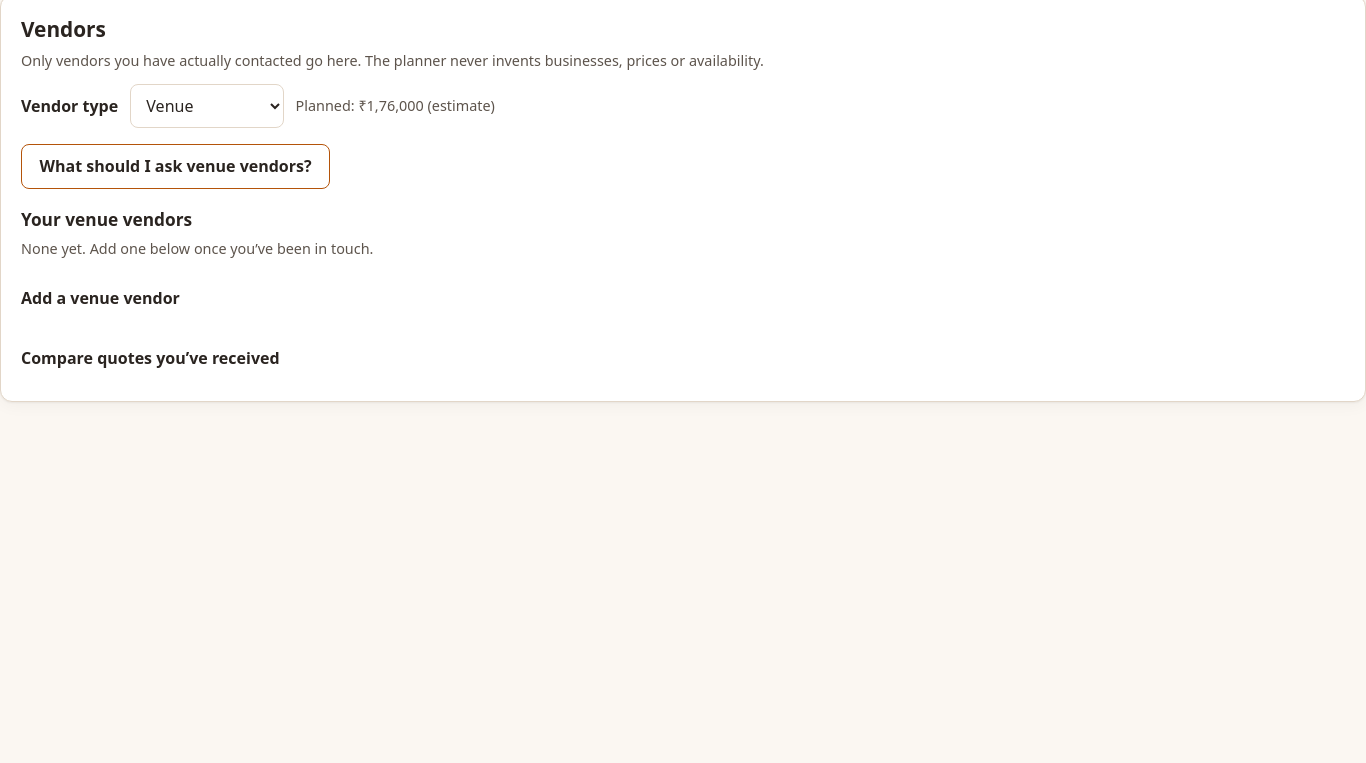
VendorPanel › comparing quotes › takes up to four quotes
Select "Catering" in the dropdown labelled "Vendor type" at (207, 106), box [130,84,284,128]
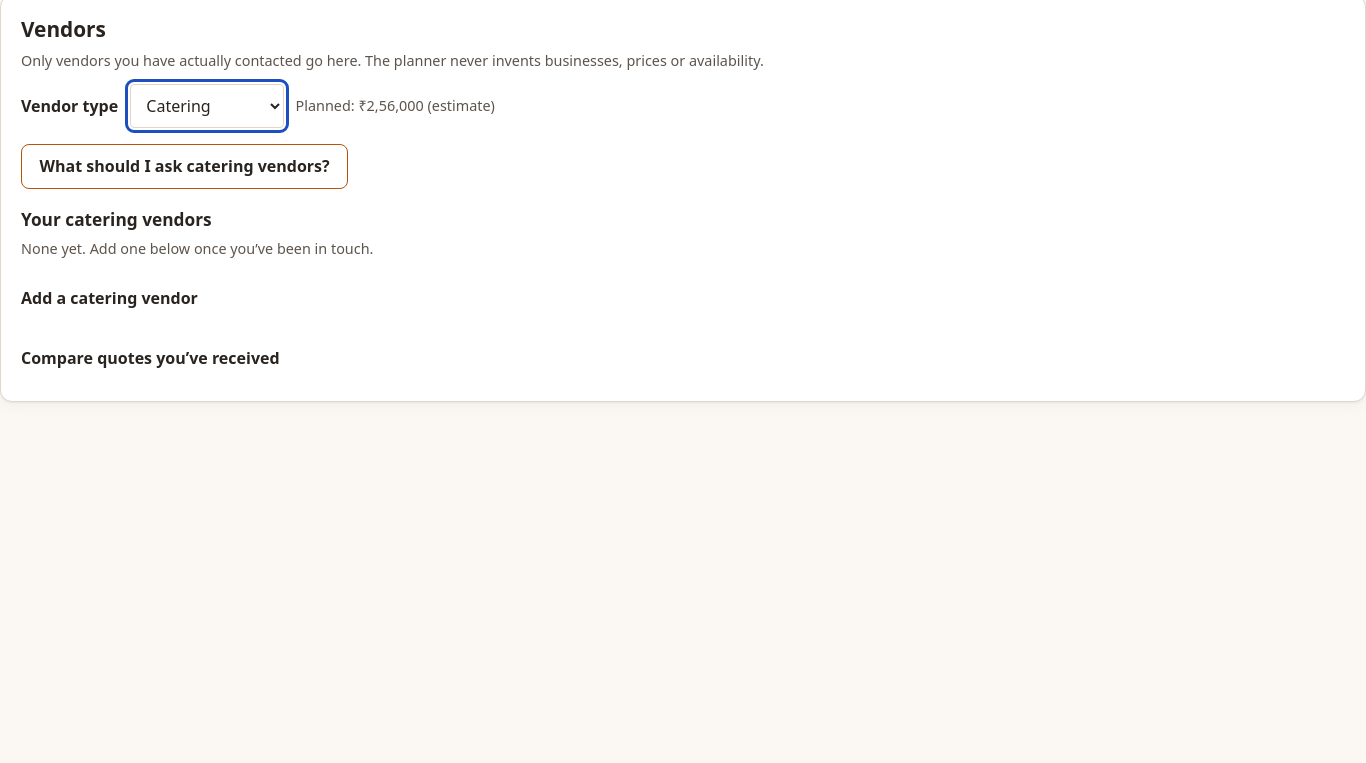
Click the heading "Compare quotes you’ve received".
click(150, 358)  # box [21,347,280,369]
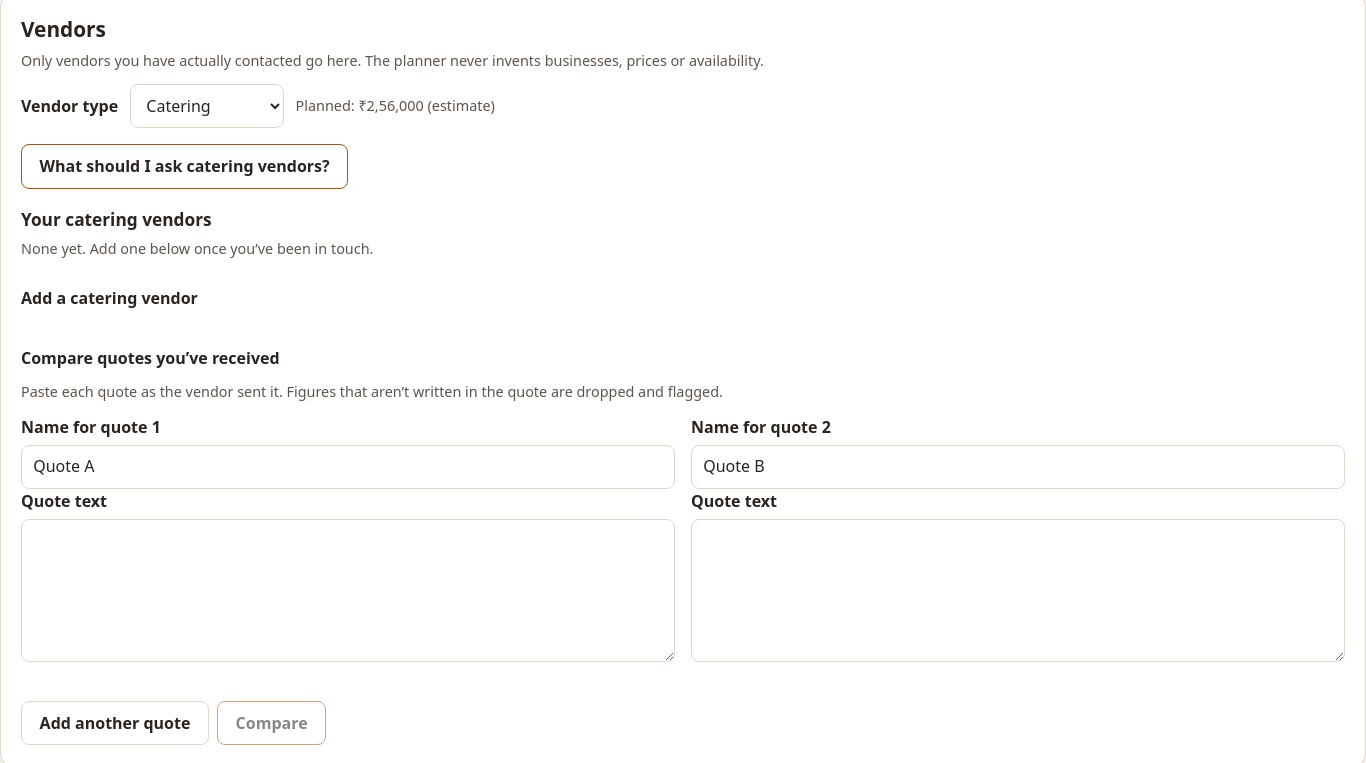
Click the button "Add another quote".
click(115, 723)  # box [21,701,209,745]
(page scrolled)
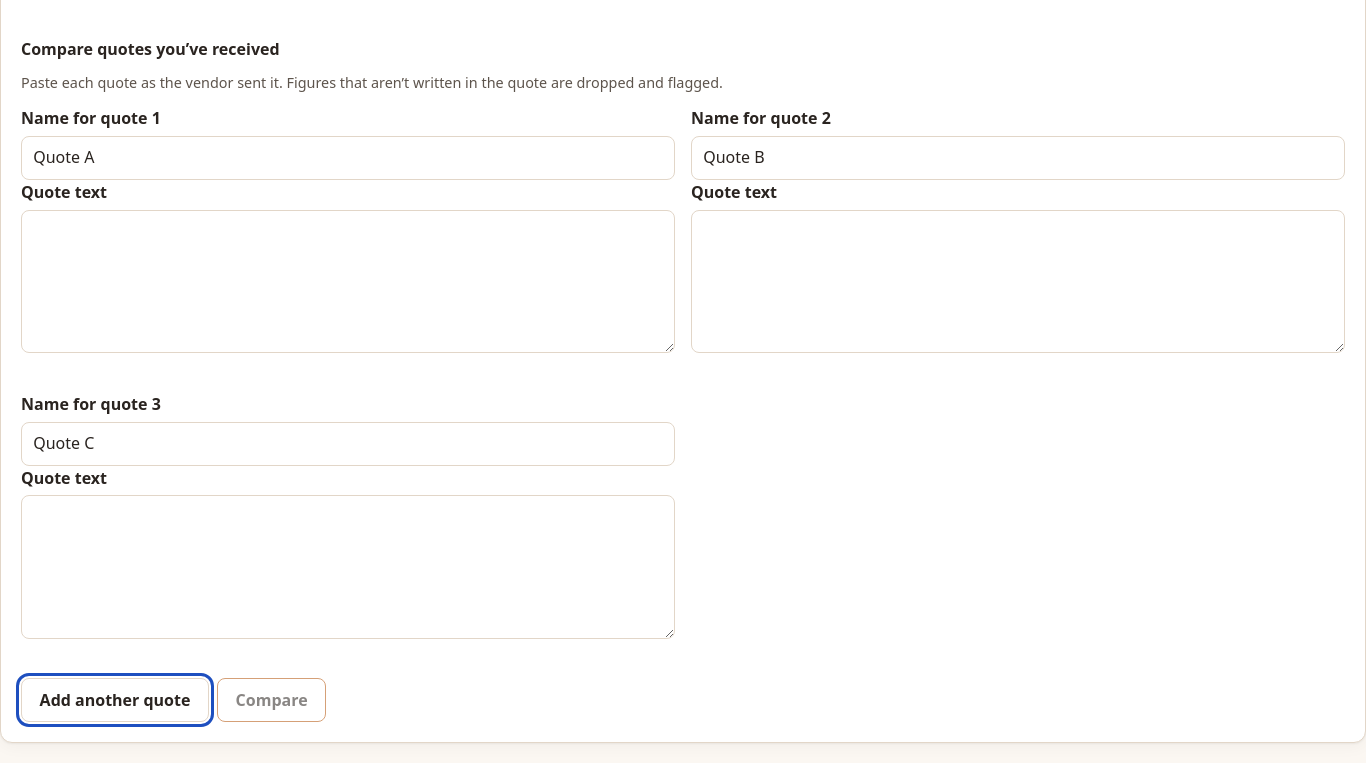
Click the button "Add another quote".
click(115, 700)  # box [21,678,209,722]
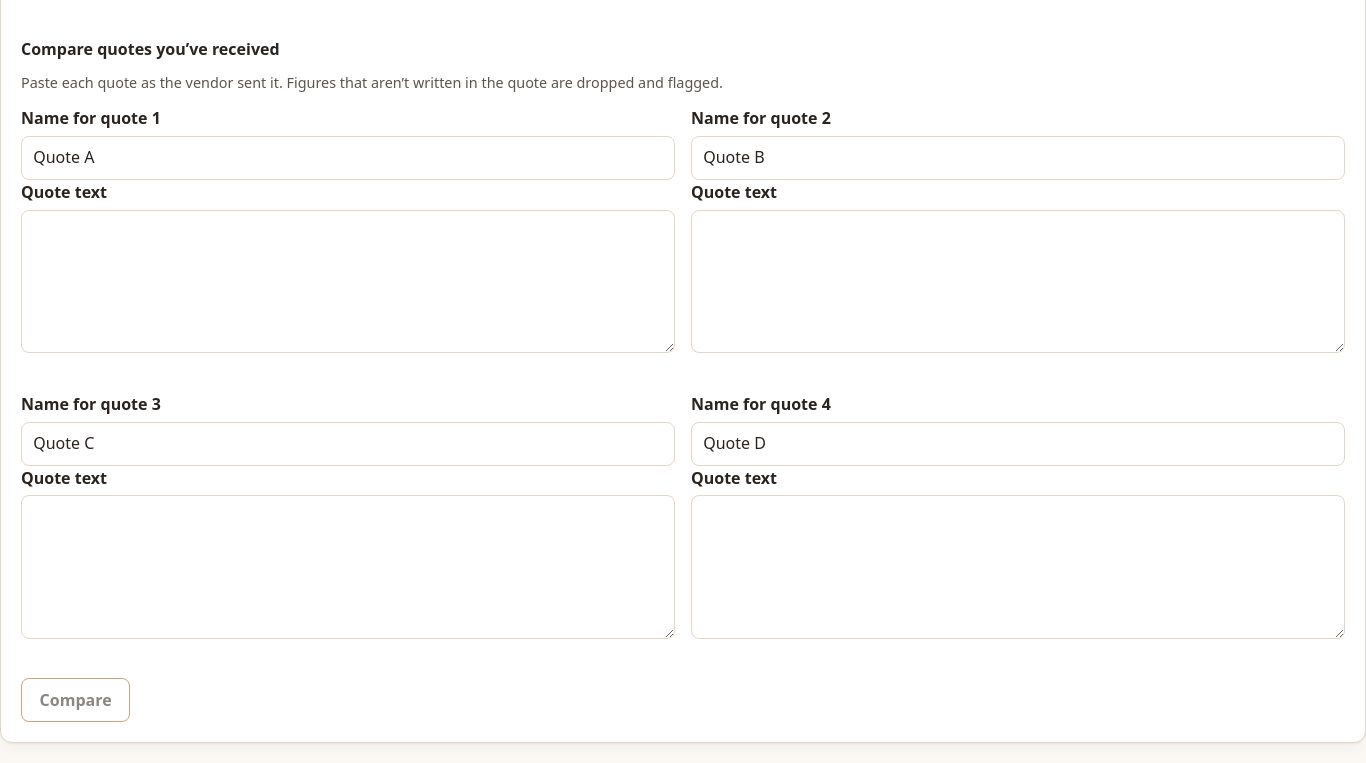
Expected: the button "Add another quote" is gone
